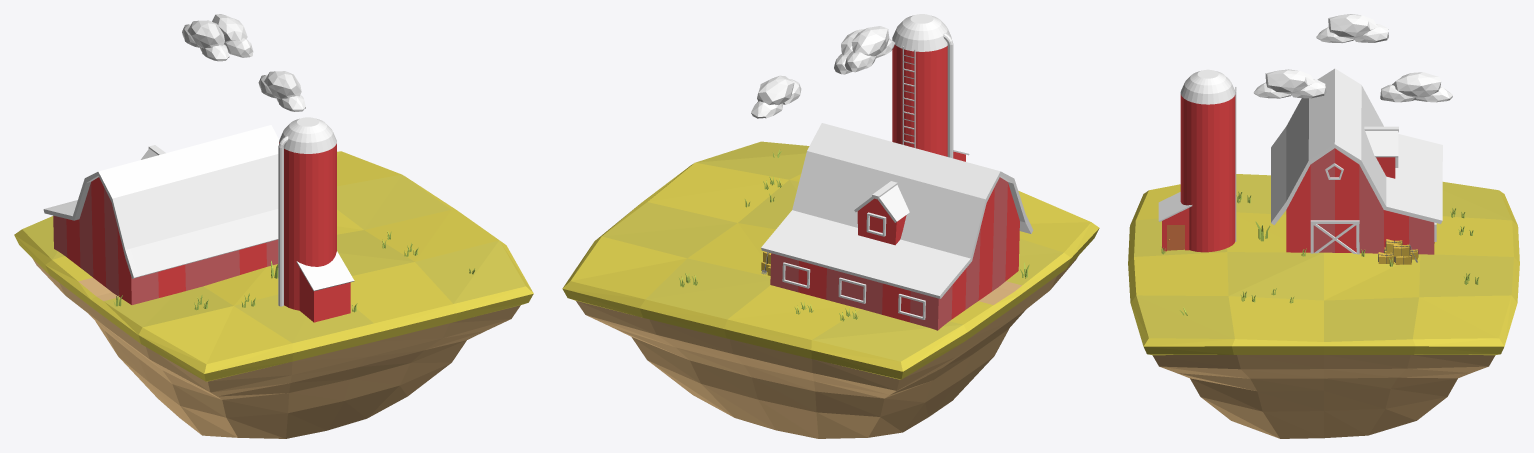
Rendered from Hub.glb.
3 renders of one model, left to right at view 1: azimuth 30°, elevation 25°; view 2: azimuth 150°, elevation 25°; view 3: azimuth 270°, elevation 25°, orthographic. The views are drawn at different scales.
Parts seen in each view (by area): view 1: Object_20, Object_21, Object_28, Object_17, Object_31, Object_14, Object_10, Object_2, Object_37; view 2: Object_20, Object_28, Object_21, Object_17, Object_31, Object_14, Object_2, Object_10, Object_37; view 3: Object_20, Object_17, Object_21, Object_28, Object_31, Object_2, Object_14, Object_10, Object_22, Object_37, Object_23.
Part boxes in pixels (x1=…): Object_20: x1=14, y1=151, x2=533, y2=381; Object_21: x1=32, y1=258, x2=520, y2=438; Object_28: x1=43, y1=125, x2=279, y2=278; Object_17: x1=22, y1=174, x2=525, y2=343; Object_31: x1=66, y1=142, x2=350, y2=322; Object_14: x1=53, y1=182, x2=278, y2=304; Object_10: x1=278, y1=117, x2=354, y2=306; Object_2: x1=182, y1=14, x2=305, y2=111; Object_37: x1=113, y1=231, x2=475, y2=312; Object_20: x1=562, y1=162, x2=1099, y2=379; Object_28: x1=761, y1=46, x2=1033, y2=319; Object_21: x1=576, y1=257, x2=1077, y2=438; Object_17: x1=602, y1=141, x2=1063, y2=361; Object_31: x1=798, y1=44, x2=1019, y2=322; Object_14: x1=770, y1=177, x2=1007, y2=330; Object_2: x1=751, y1=26, x2=895, y2=118; Object_10: x1=892, y1=14, x2=969, y2=158; Object_37: x1=679, y1=149, x2=1029, y2=321; Object_20: x1=1128, y1=184, x2=1519, y2=355; Object_17: x1=1134, y1=174, x2=1513, y2=341; Object_21: x1=1152, y1=355, x2=1495, y2=438; Object_28: x1=1235, y1=68, x2=1442, y2=254; Object_31: x1=1162, y1=94, x2=1409, y2=252; Object_2: x1=1253, y1=14, x2=1452, y2=102; Object_14: x1=1310, y1=148, x2=1434, y2=254; Object_10: x1=1158, y1=69, x2=1235, y2=221; Object_22: x1=1378, y1=239, x2=1417, y2=264; Object_37: x1=1161, y1=191, x2=1479, y2=315; Object_23: x1=1167, y1=225, x2=1184, y2=250.
Bounding box in the file's own units: 122 × 122 × 119.
